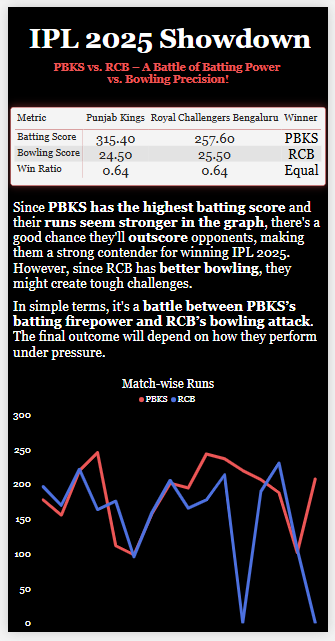

What the dashboard file says about the page in this screenshot:
{"tool":"powerbi","page":{"name":"Prediction","canvas":[640,1250],"ordinal":2},"visuals":[{"type":"pivotTable","fields":{"Rows":["Prediction Breakdown.Metric"],"Values":["Sum(Prediction Breakdown.PBKS)","Sum(Prediction Breakdown.RCB)","Min(Prediction Breakdown.Winner in Category)"]},"box":[5,200,630,157.5],"z":0},{"type":"lineChart","title":"Match-wise Runs","fields":{"Category":["Match Wise Runs.Punjab_match_number","Match Wise Runs.RCB_match_numbers"],"Y":["Sum(Match Wise Runs.PBKS_Runs)","Sum(Match Wise Runs.RCB_Runs)"]},"box":[5,740,630,510],"z":1},{"type":"textbox","box":[5,380,630,342.5],"z":2},{"type":"textbox","box":[5,27.5,630,155],"z":3}]}

Visuals, with their boxes in screenshot pixels (x1, y1, x2, y2), scaled from the page's 640x1250 canvas onto the 335x641 screenshot:
pivotTable - Prediction Breakdown.Metric x Sum(Prediction Breakdown.PBKS): crop(3, 103, 332, 183)
"Match-wise Runs" lineChart: crop(3, 379, 332, 640)
textbox: crop(3, 195, 332, 370)
textbox: crop(3, 14, 332, 94)
